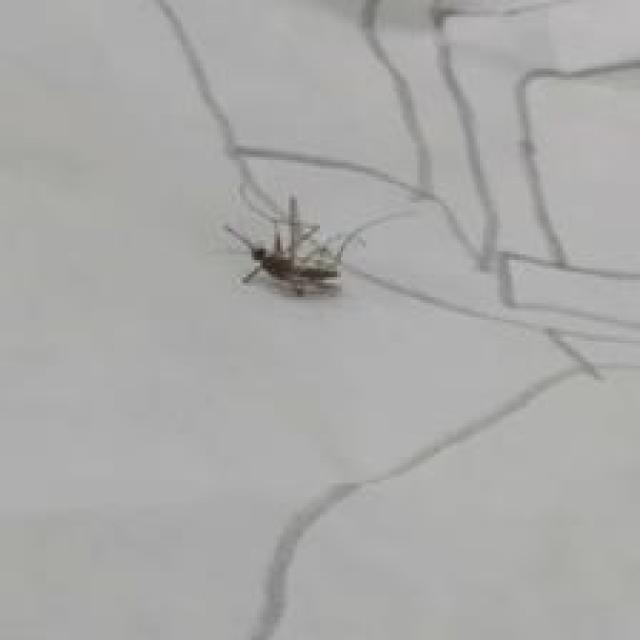Culex: (221, 190, 356, 299)
